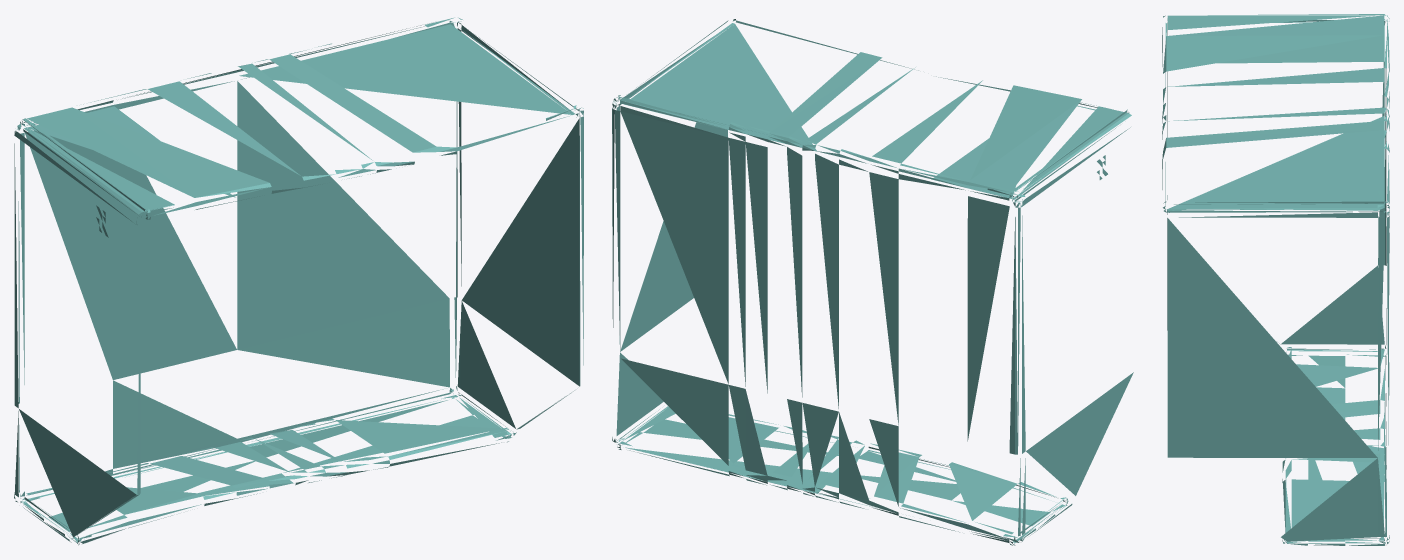
The model's file is box_cardboard_open_a06.glb.
The picture shows the model from 3 angles, left to right: view 1: azimuth 30°, elevation 25°; view 2: azimuth 150°, elevation 25°; view 3: azimuth 270°, elevation 25°; orthographic projection. The views are drawn at different scales.
Parts seen in each view (by area): view 1: geometry_0; view 2: geometry_0; view 3: geometry_0.
Boxes of the visible parts, bbox=[...] form: geometry_0: bbox=[14, 17, 583, 545]; geometry_0: bbox=[612, 19, 1133, 545]; geometry_0: bbox=[1162, 14, 1389, 545].
Size of the model in its own units: 0.48 by 0.397 by 0.2376.
